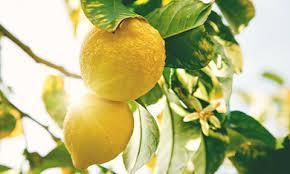lemon: (79, 18, 166, 102), (64, 92, 134, 168)
